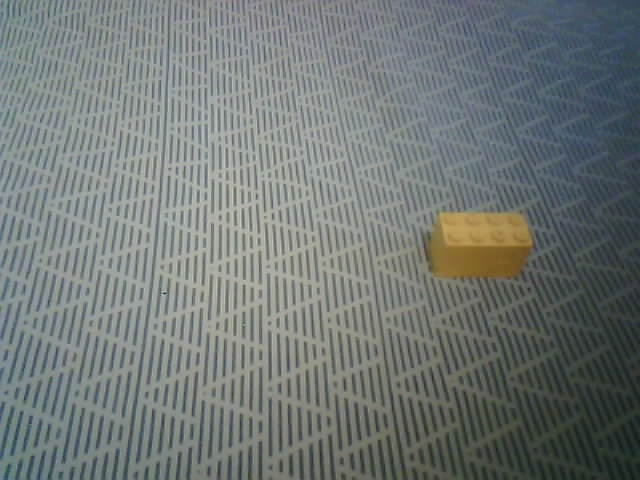lego: (428, 211, 534, 280)
